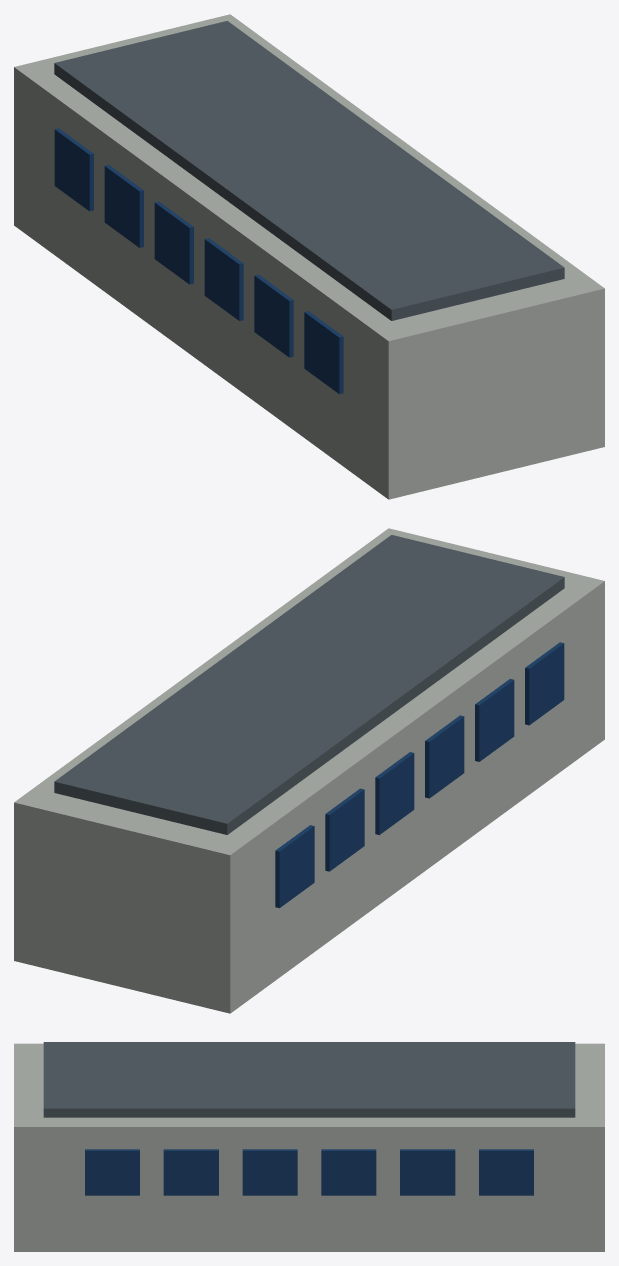
The model's file is maglev-wagon.glb.
3 views of the same model, one above another, from view 1: azimuth 30°, elevation 25°; view 2: azimuth 150°, elevation 25°; view 3: azimuth 270°, elevation 25° (orthographic). The views are drawn at different scales.
Visible parts, largest first — view 1: maglev-wagon; view 2: maglev-wagon; view 3: maglev-wagon.
Boxes of the visible parts, x1=… form: maglev-wagon: x1=14, y1=14, x2=604, y2=499; maglev-wagon: x1=14, y1=528, x2=604, y2=1013; maglev-wagon: x1=14, y1=1042, x2=604, y2=1251.
Bounding box in the file's own units: 10.4 × 7.55 × 30.
